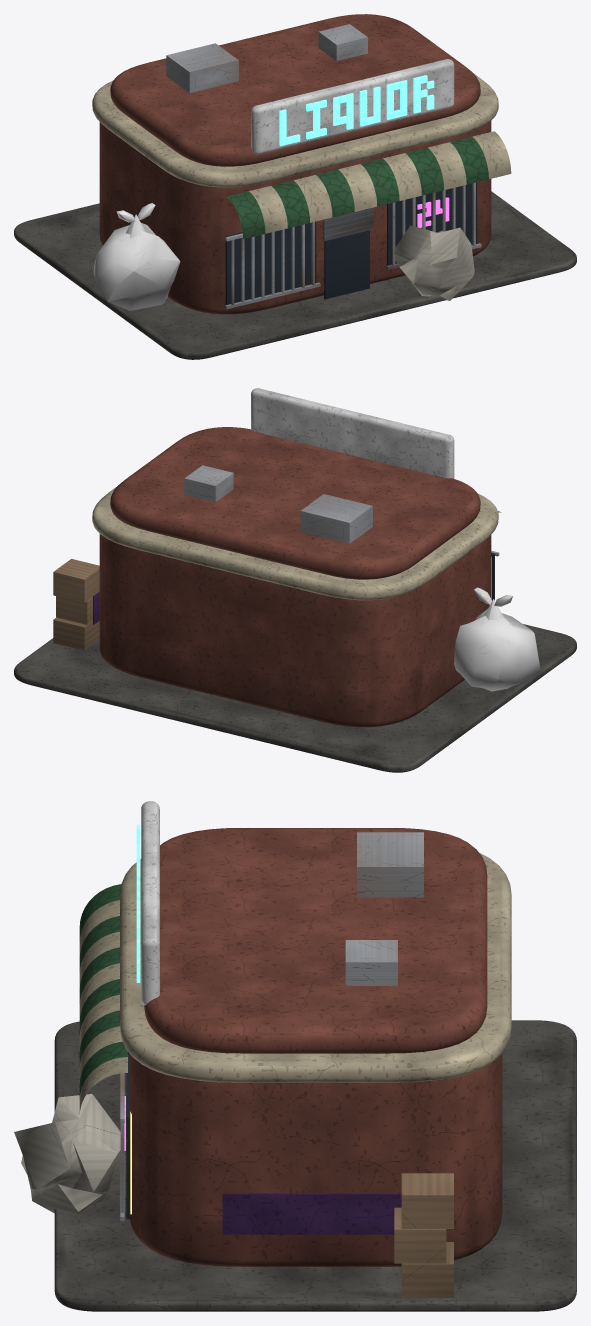
The model's file is liquor_store.glb.
3 renders of one model, top to bottom at view 1: azimuth 30°, elevation 25°; view 2: azimuth 150°, elevation 25°; view 3: azimuth 270°, elevation 25°, orthographic. The views are drawn at different scales.
Visible parts, largest first — view 1: liquor_store, trash_bag_139, crumpled_paper_144, group_51, group_112; view 2: liquor_store, trash_bag_139; view 3: liquor_store, crumpled_paper_144, group_51.
Part boxes in pixels (bbox=[...]): liquor_store: bbox=[14, 14, 576, 359]; trash_bag_139: bbox=[93, 203, 180, 310]; crumpled_paper_144: bbox=[394, 225, 474, 300]; group_51: bbox=[279, 75, 434, 146]; group_112: bbox=[417, 197, 449, 227]; liquor_store: bbox=[14, 388, 576, 772]; trash_bag_139: bbox=[454, 587, 540, 691]; liquor_store: bbox=[54, 801, 576, 1311]; crumpled_paper_144: bbox=[14, 1094, 126, 1214]; group_51: bbox=[136, 824, 140, 982].
Size of the model in its own units: 18.92 by 9.06 by 15.09.
Materials: 15 (12 with a texture image).
